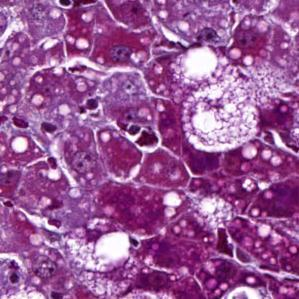ballooning: (180, 81, 261, 155)
